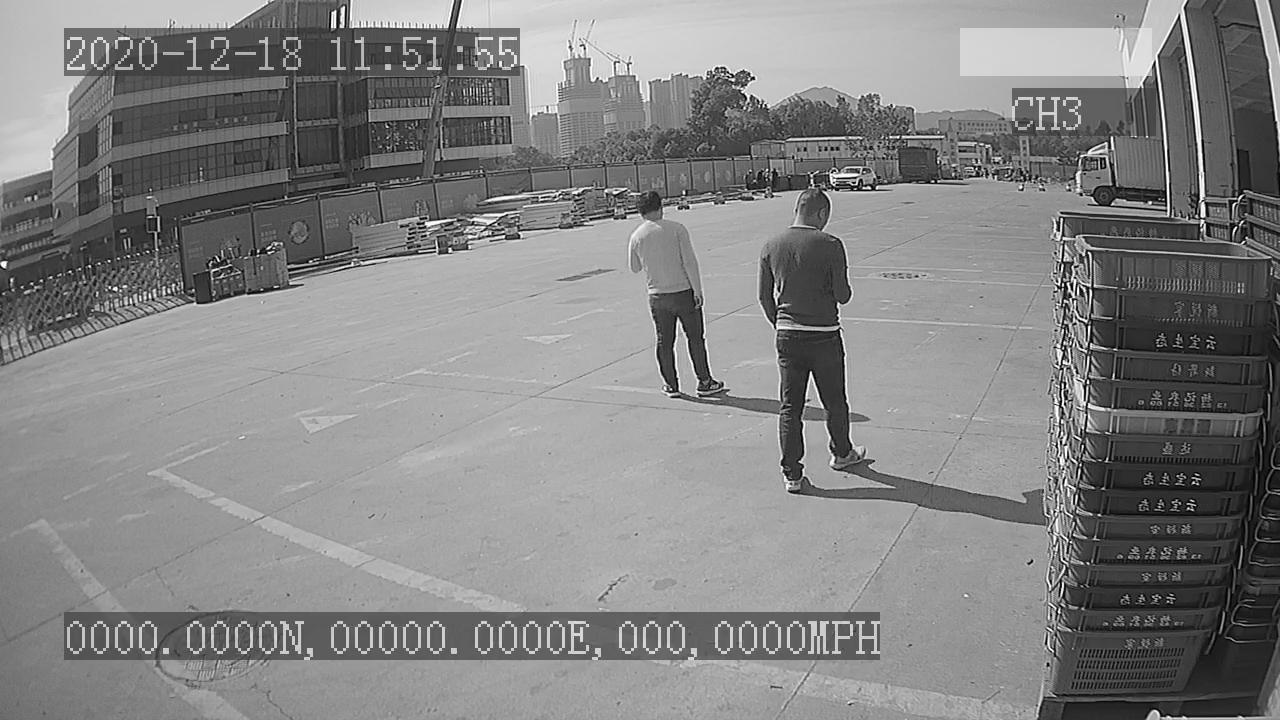person: (751, 183, 877, 502), (620, 183, 734, 406)
